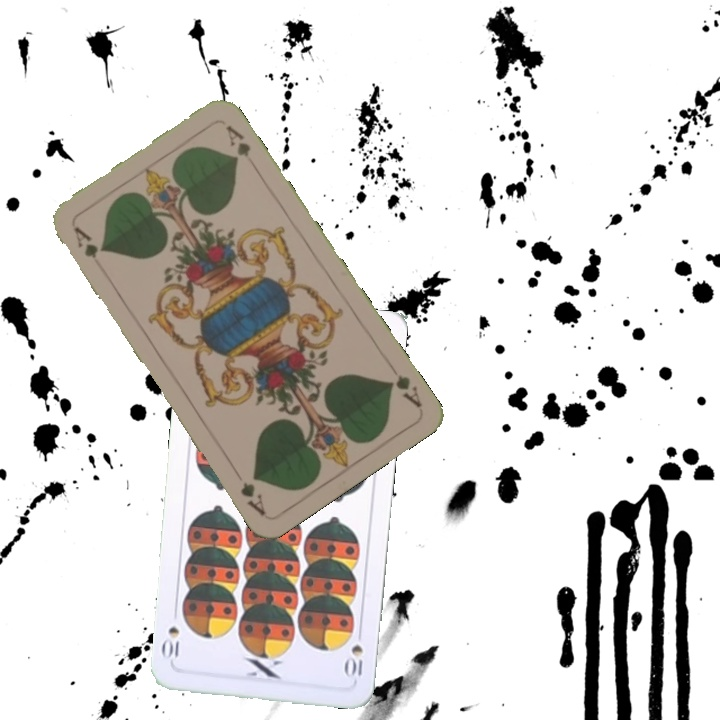GA: (69, 222, 106, 275), (383, 370, 425, 411)
S10: (341, 624, 365, 680)
